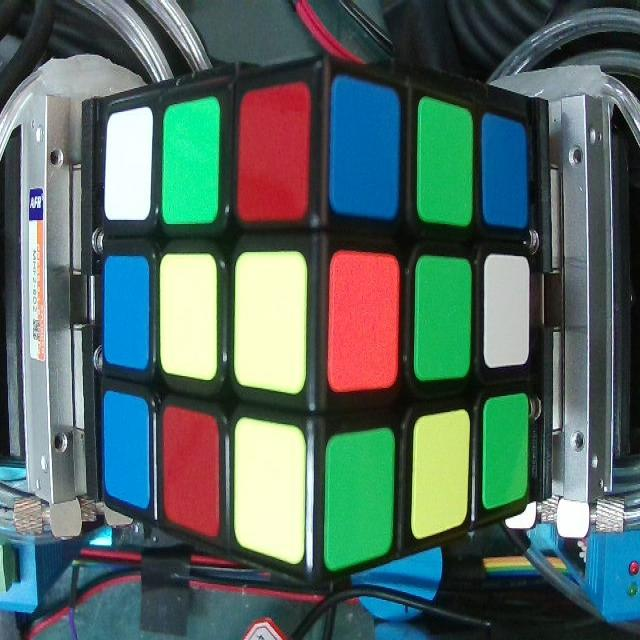b: (336, 74, 397, 212), (481, 112, 528, 228), (103, 258, 151, 371), (104, 396, 148, 506)
g: (330, 435, 392, 561), (417, 253, 475, 377), (420, 96, 472, 222), (165, 104, 218, 224), (483, 399, 529, 507)
o: (330, 246, 395, 392)
r: (239, 90, 308, 222), (162, 403, 216, 529)
w: (483, 250, 532, 362), (108, 115, 150, 224)
y: (237, 255, 305, 392), (237, 423, 301, 560), (158, 259, 218, 377), (413, 422, 469, 531)
